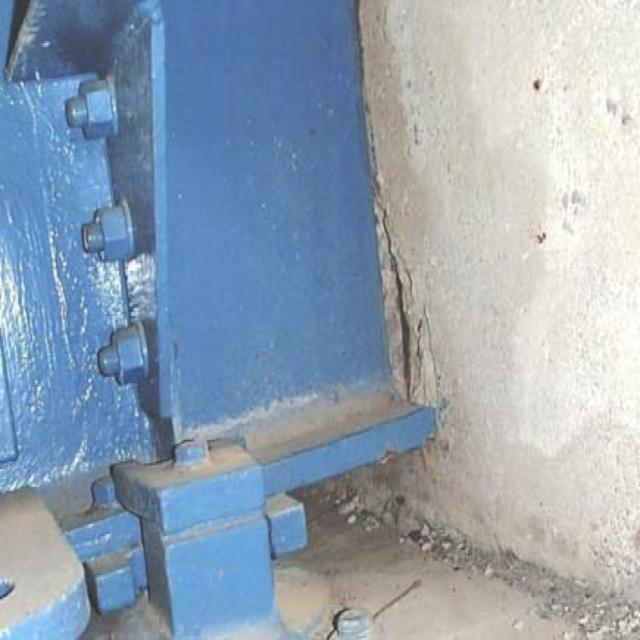spalling: (362, 198, 467, 436)
